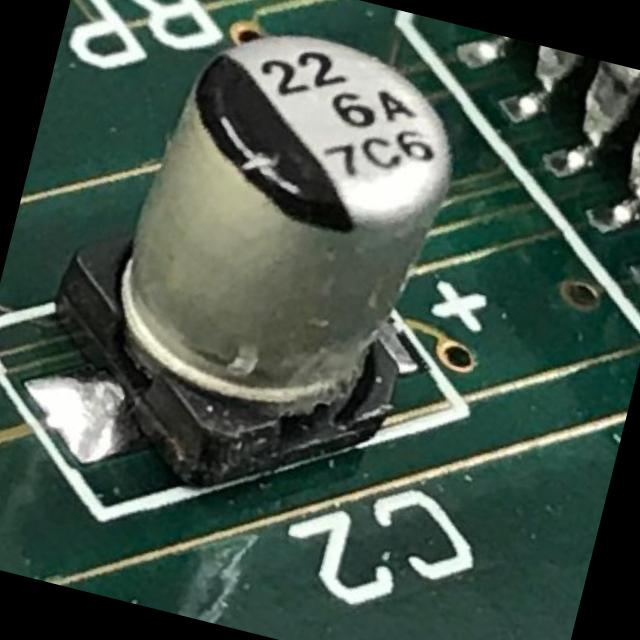capacitor: (22, 0, 494, 513)
